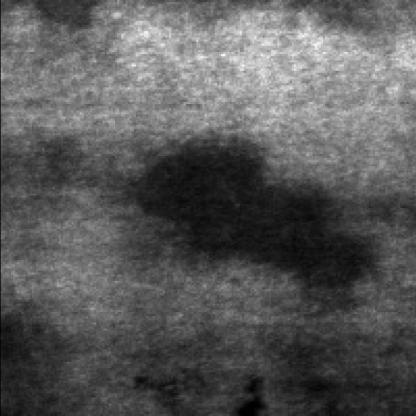patches: (129, 135, 385, 314)
